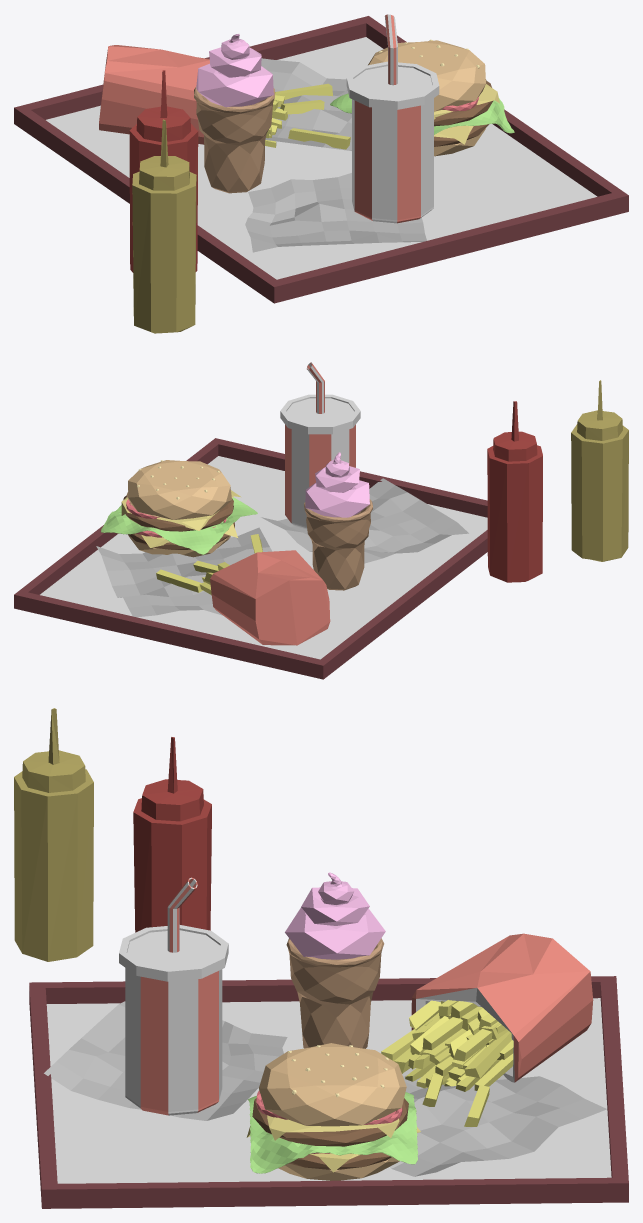
The model's file is low_poly_fast_food.glb.
3 views of the same model, one above another, from view 1: azimuth 30°, elevation 25°; view 2: azimuth 150°, elevation 25°; view 3: azimuth 270°, elevation 25° (orthographic). The views are drawn at different scales.
Visible parts, largest first — view 1: Plane, Cylinder.005, Cylinder.007, Cube.003, Plane.003, Cylinder.002, Plane.004, Plane.001, Cylinder.006, Plane.006, Plane.005, Plane.007; view 2: Plane, Cylinder.002, Plane.004, Cylinder.007, Cylinder.006, Cube.003, Cylinder.005, Plane.001, Plane.003, Plane.005; view 3: Plane, Plane.004, Cylinder.002, Cylinder.005, Cylinder.007, Cube.003, Plane.001, Cylinder.006, Plane.003.
Part boxes in pixels (left/top/right/bottom): Plane: left=14, top=16, right=628, bottom=303; Cylinder.005: left=346, top=14, right=439, bottom=223; Cylinder.007: left=132, top=119, right=196, bottom=333; Cube.003: left=194, top=34, right=275, bottom=193; Plane.003: left=245, top=173, right=426, bottom=252; Cylinder.002: left=330, top=39, right=514, bottom=156; Plane.004: left=99, top=45, right=287, bottom=147; Plane.001: left=261, top=58, right=351, bottom=150; Cylinder.006: left=129, top=70, right=198, bottom=272; Plane.006: left=288, top=128, right=350, bottom=149; Plane.005: left=275, top=83, right=332, bottom=99; Plane.007: left=280, top=100, right=324, bottom=114; Plane: left=14, top=438, right=487, bottom=679; Cylinder.002: left=101, top=460, right=257, bottom=557; Plane.004: left=199, top=550, right=330, bottom=645; Cylinder.007: left=571, top=380, right=628, bottom=561; Cylinder.006: left=487, top=401, right=542, bottom=582; Cube.003: left=304, top=452, right=372, bottom=590; Cylinder.005: left=280, top=362, right=360, bottom=529; Plane.001: left=96, top=527, right=272, bottom=617; Plane.003: left=261, top=478, right=468, bottom=563; Plane.005: left=156, top=569, right=202, bottom=592; Plane: left=29, top=976, right=628, bottom=1208; Plane.004: left=381, top=933, right=593, bottom=1091; Cylinder.002: left=246, top=1043, right=420, bottom=1180; Cylinder.005: left=119, top=877, right=228, bottom=1115; Cylinder.007: left=14, top=708, right=93, bottom=961; Cube.003: left=285, top=872, right=385, bottom=1048; Plane.001: left=390, top=1068, right=606, bottom=1176; Cylinder.006: left=133, top=737, right=211, bottom=932; Plane.003: left=44, top=1001, right=287, bottom=1120.
Bounding box in the file's own units: 6.74 × 2.7 × 6.23.
